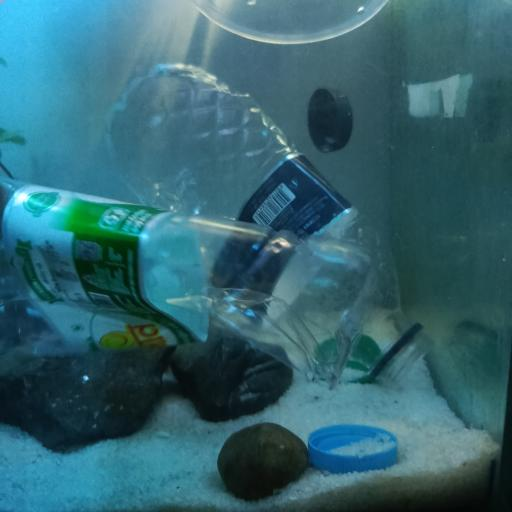bottle_cap: (184, 0, 395, 50), (312, 425, 401, 471), (314, 333, 385, 387), (307, 85, 353, 150)
plastic_bottle: (98, 61, 434, 386), (0, 175, 376, 388)
